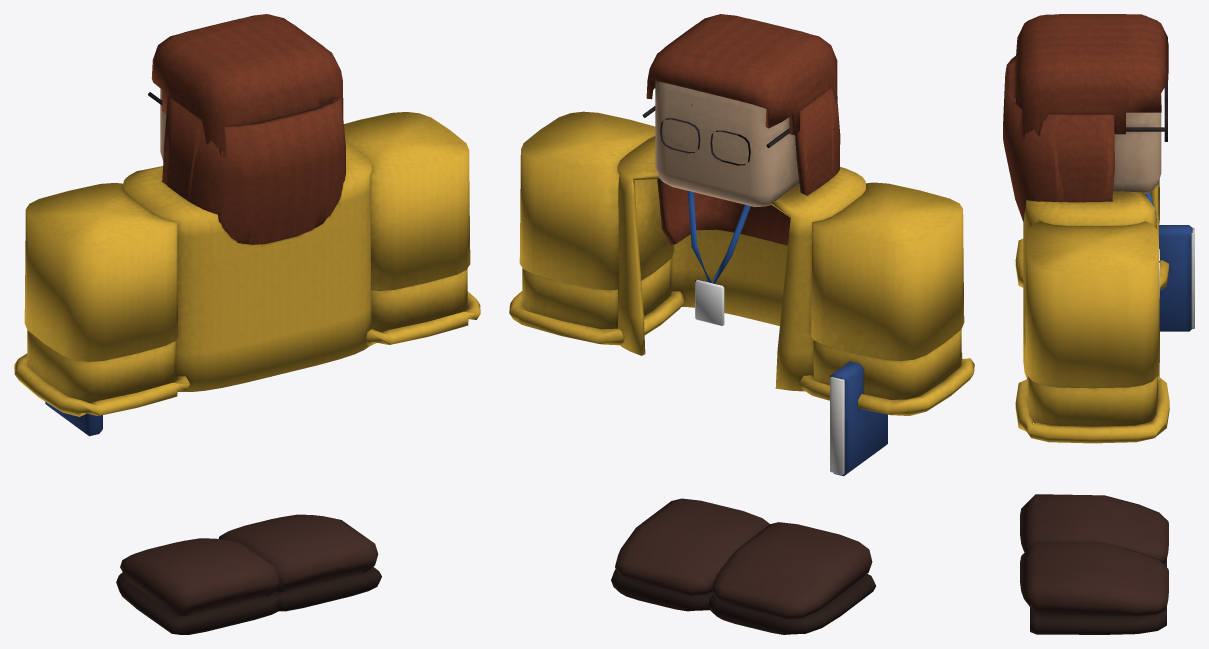
Rendered from Bloque_Lucia.fbx.
3 views of the same model, side by side, from view 1: azimuth 30°, elevation 25°; view 2: azimuth 150°, elevation 25°; view 3: azimuth 270°, elevation 25° (orthographic).
Visible parts, largest first — view 1: Rebeca, Pelo, MangaBrazoL, MangaBrazoR, ZapatoL, ZapatoR, PeloLOD, MangaAnteL, MangaAnteR, Libro; view 2: MangaBrazoL, Rebeca, MangaBrazoR, Pelo, ZapatoL, CabezaBloque, ZapatoR, PeloLOD, MangaAnteL, MangaAnteR, Libro, Acreditacion (+1 smaller); view 3: MangaBrazoR, Pelo, ZapatoR, MangaAnteR, PeloLOD, ZapatoL, Rebeca, Libro, CabezaBloque, MangaAnteL, Gafas.
Boxes of the visible parts, x1,y1,x2,y2 form: Rebeca: [122, 142, 371, 391]; Pelo: [151, 14, 345, 244]; MangaBrazoL: [24, 183, 177, 361]; MangaBrazoR: [344, 112, 470, 290]; ZapatoL: [116, 538, 282, 634]; ZapatoR: [218, 514, 381, 611]; PeloLOD: [153, 14, 345, 244]; MangaAnteL: [14, 330, 189, 416]; MangaAnteR: [365, 269, 480, 345]; Libro: [45, 401, 102, 436]; MangaBrazoL: [811, 182, 964, 361]; Rebeca: [617, 136, 865, 391]; MangaBrazoR: [519, 111, 673, 290]; Pelo: [646, 15, 839, 245]; ZapatoL: [709, 522, 875, 634]; CabezaBloque: [655, 81, 799, 206]; ZapatoR: [611, 498, 769, 611]; PeloLOD: [648, 14, 840, 245]; MangaAnteL: [799, 329, 974, 415]; MangaAnteR: [509, 259, 684, 345]; Libro: [830, 361, 887, 476]; Acreditacion: [688, 191, 750, 325]; MangaBrazoR: [1025, 221, 1159, 388]; Pelo: [1003, 14, 1168, 220]; ZapatoR: [1020, 541, 1168, 634]; MangaAnteR: [1015, 376, 1169, 443]; PeloLOD: [1004, 14, 1168, 222]; ZapatoL: [1020, 494, 1168, 566]; Rebeca: [1023, 185, 1159, 378]; Libro: [1158, 225, 1194, 331]; CabezaBloque: [1113, 94, 1161, 193]; MangaAnteL: [1015, 238, 1168, 290]; Gafas: [1126, 81, 1167, 141].
Size of the model in its own units: 439 by 541 by 171.
